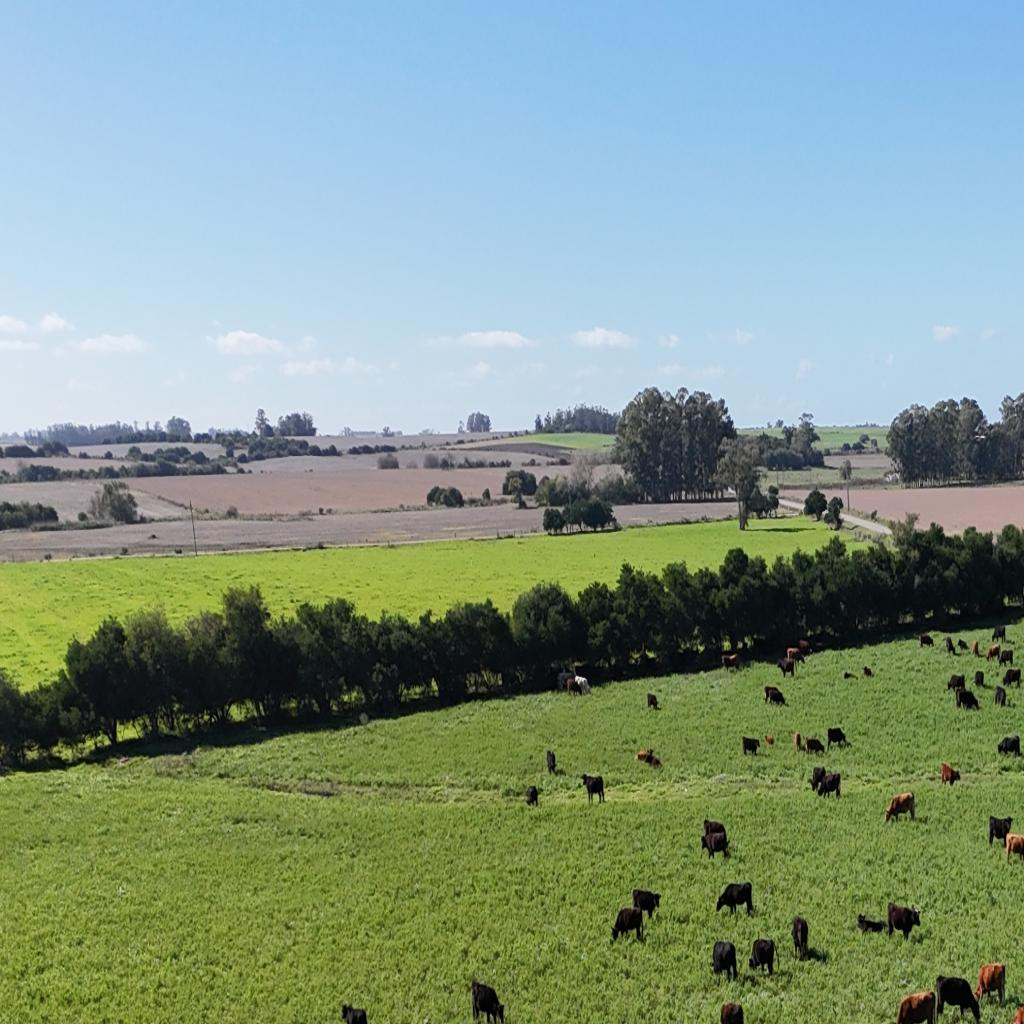cow: (935, 975, 981, 1023), (469, 979, 503, 1023), (974, 962, 1006, 1006), (896, 990, 936, 1024), (715, 881, 753, 916), (887, 903, 920, 942), (611, 906, 644, 944), (710, 939, 738, 981), (748, 937, 776, 978), (884, 791, 916, 823), (631, 888, 661, 920), (701, 830, 729, 860), (791, 916, 809, 962), (988, 814, 1013, 847), (814, 771, 842, 800), (580, 774, 605, 806), (997, 668, 1022, 697), (1004, 830, 1024, 862), (340, 1002, 368, 1024), (857, 913, 886, 934), (997, 735, 1021, 758), (956, 688, 980, 710), (703, 819, 727, 841), (720, 1000, 744, 1022), (827, 727, 848, 751), (940, 762, 960, 786), (764, 686, 786, 706), (810, 765, 826, 792), (947, 673, 966, 693), (742, 736, 760, 756), (805, 738, 825, 756), (566, 676, 583, 696), (721, 653, 739, 671), (786, 647, 804, 665), (778, 660, 794, 679), (525, 784, 538, 806), (1000, 725, 1015, 743), (1000, 648, 1014, 667), (634, 748, 653, 762), (1012, 667, 1024, 689), (546, 749, 556, 775), (994, 686, 1006, 707), (986, 644, 1000, 662), (700, 834, 711, 856), (919, 634, 934, 649), (993, 626, 1007, 642), (648, 756, 662, 770), (647, 693, 658, 710), (946, 637, 956, 655), (798, 640, 810, 655), (974, 670, 985, 686), (972, 640, 980, 657), (795, 732, 802, 751), (958, 639, 968, 651), (764, 734, 774, 746), (844, 671, 856, 680), (863, 666, 872, 677)
